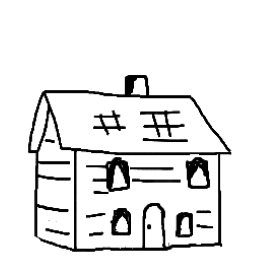bottom_placed_house: (1, 2, 260, 260)
chimney: (115, 64, 154, 100)
door: (136, 199, 173, 254)
open_window: (100, 157, 134, 199), (183, 156, 212, 192), (106, 203, 134, 240), (172, 207, 198, 240)
roof: (16, 83, 237, 158)
wall: (63, 135, 226, 255)
